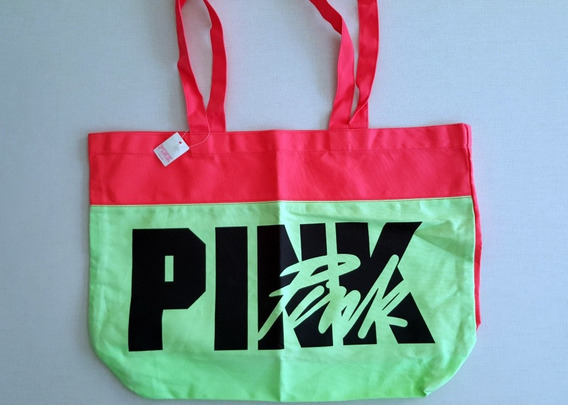cartera: (85, 1, 483, 405)
